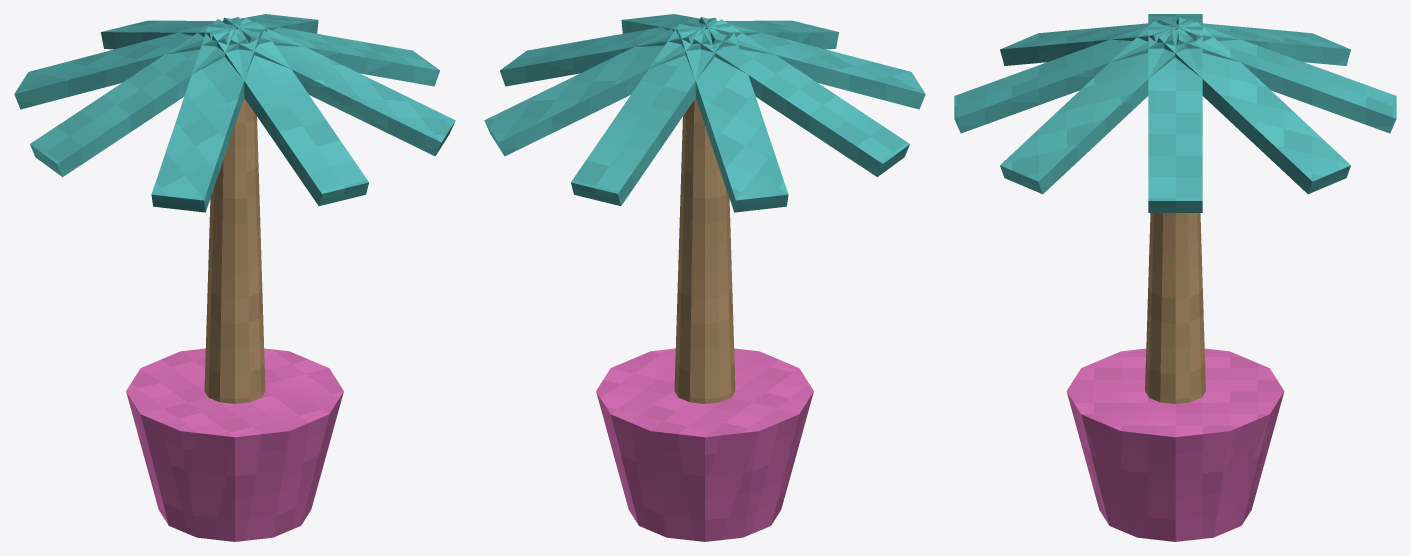
Rendered from retro-arcade-and-mall-1989-palm-planter-4ee16fed__15520.glb.
3 views of the same model, side by side, from view 1: azimuth 30°, elevation 25°; view 2: azimuth 150°, elevation 25°; view 3: azimuth 270°, elevation 25° (orthographic).
Visible parts, largest first — view 1: palm-planter; view 2: palm-planter; view 3: palm-planter.
Part boxes in pixels (x1,y1,x2,y2): palm-planter: (14,14,455,541); palm-planter: (484,14,925,541); palm-planter: (954,14,1396,541).
Bounding box in the file's own units: 2.03 × 2.44 × 2.03.
Materials: 3 (3 with a texture image).
